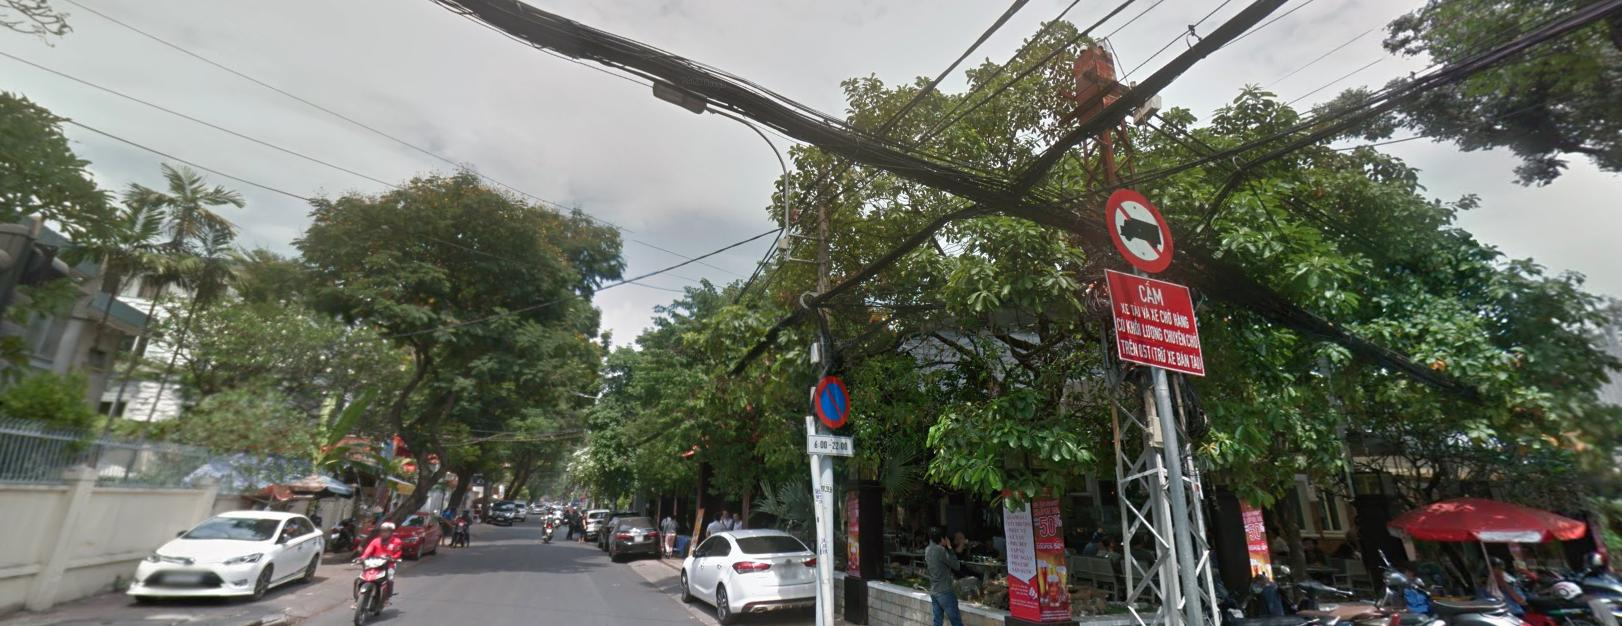Cam con lai: (1104, 187, 1174, 270)
Cam dung va do: (815, 375, 849, 426)
